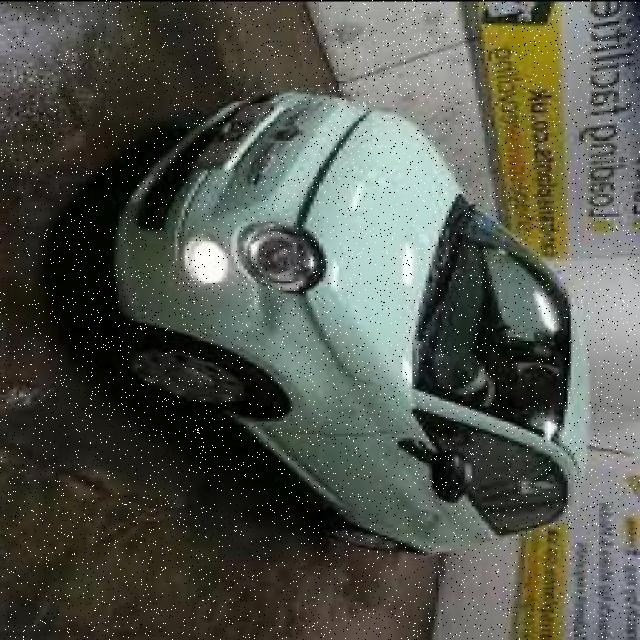damage: (233, 281, 295, 334)
